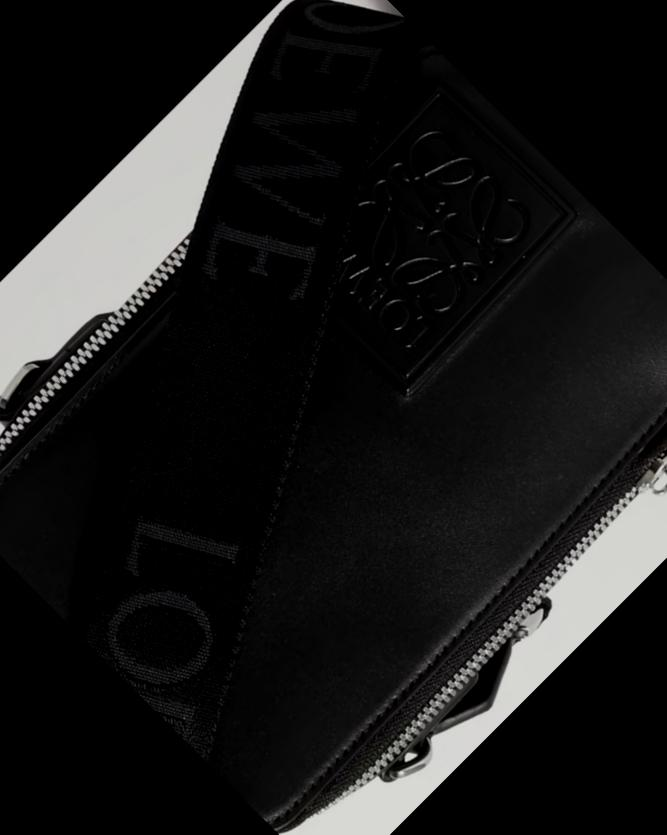LOEWE: (315, 92, 561, 338)
